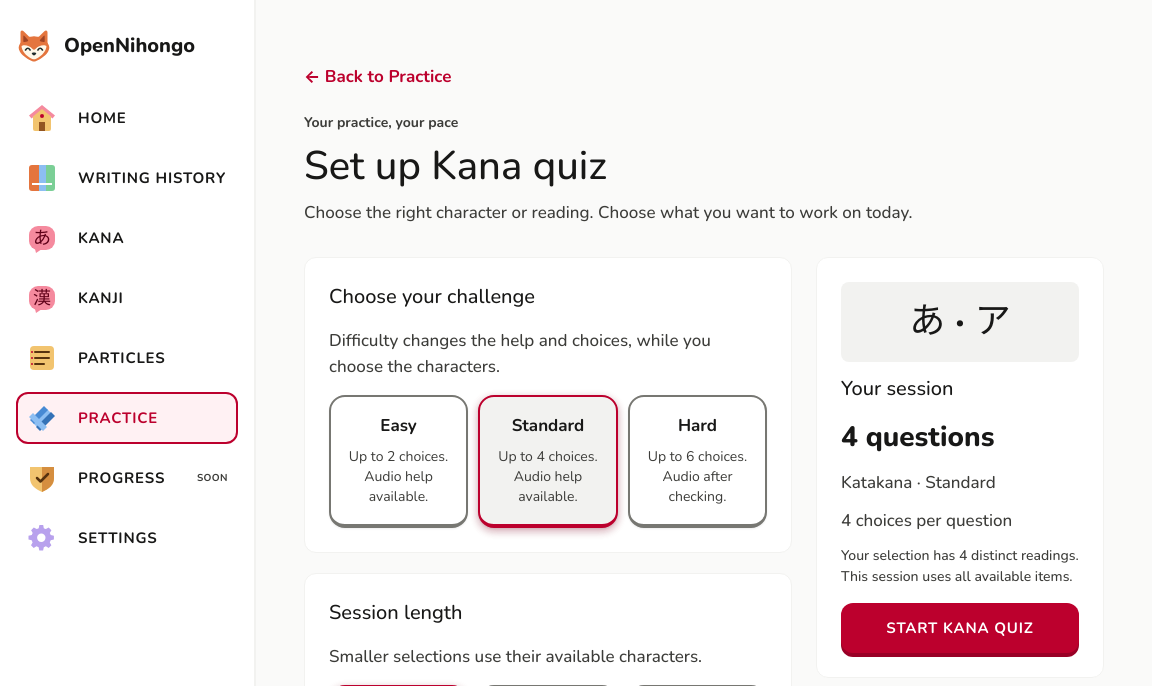
Test case: uses Enter and Space to choose focused options before checking them
This screenshot has width=1152, height=686.
Check: the heading "Set up Kana quiz" is shown, box [304, 139, 607, 193]
Click the button "Start Kana quiz" at (960, 628), box [841, 603, 1079, 653]
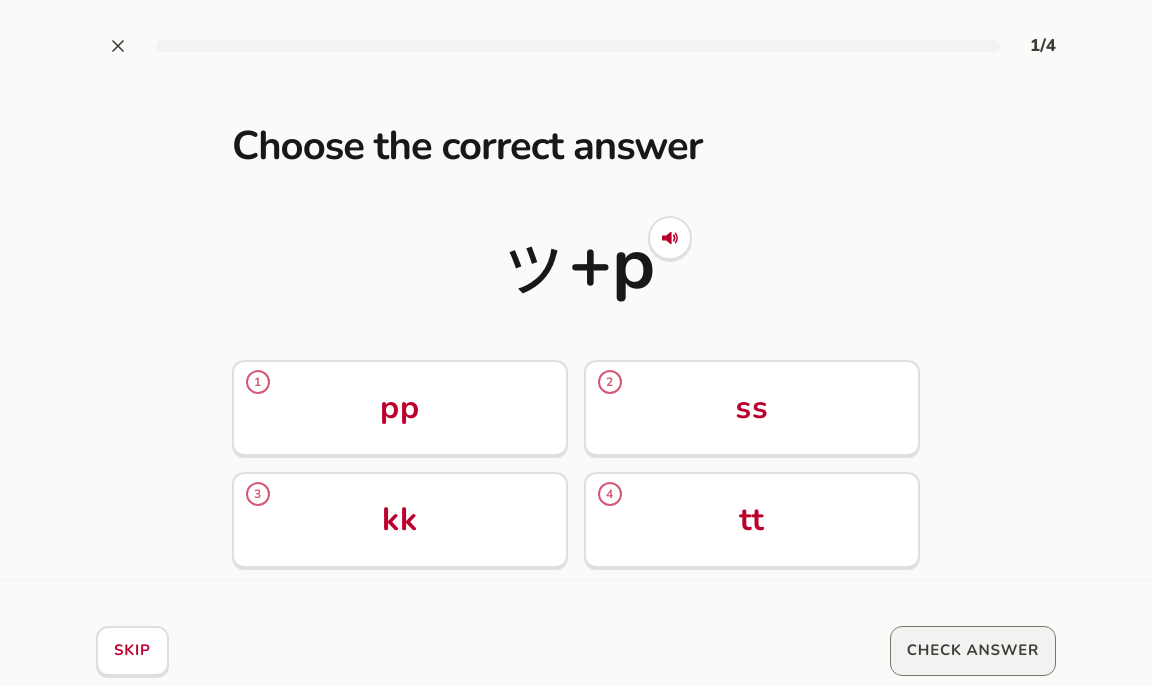
Check: the heading "Choose the correct answer" is shown, box [232, 119, 702, 173]
Type keys " "
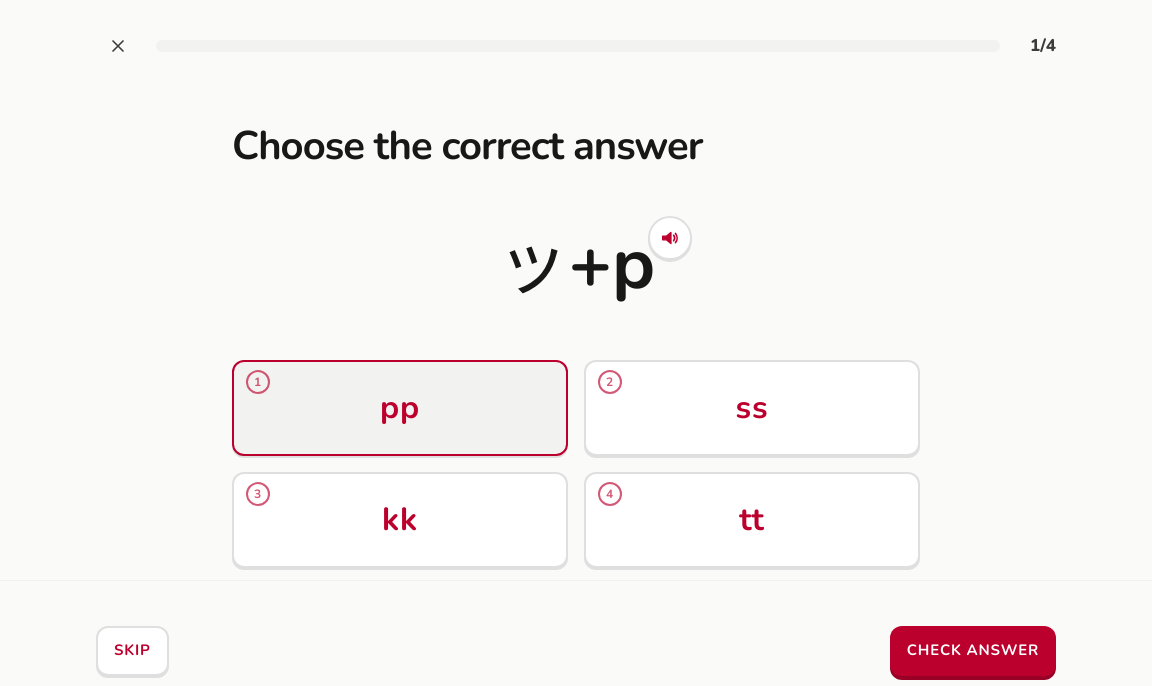
Check: the button "1 pp" is pressed, box [232, 360, 568, 456]
Press Arrowright Enter
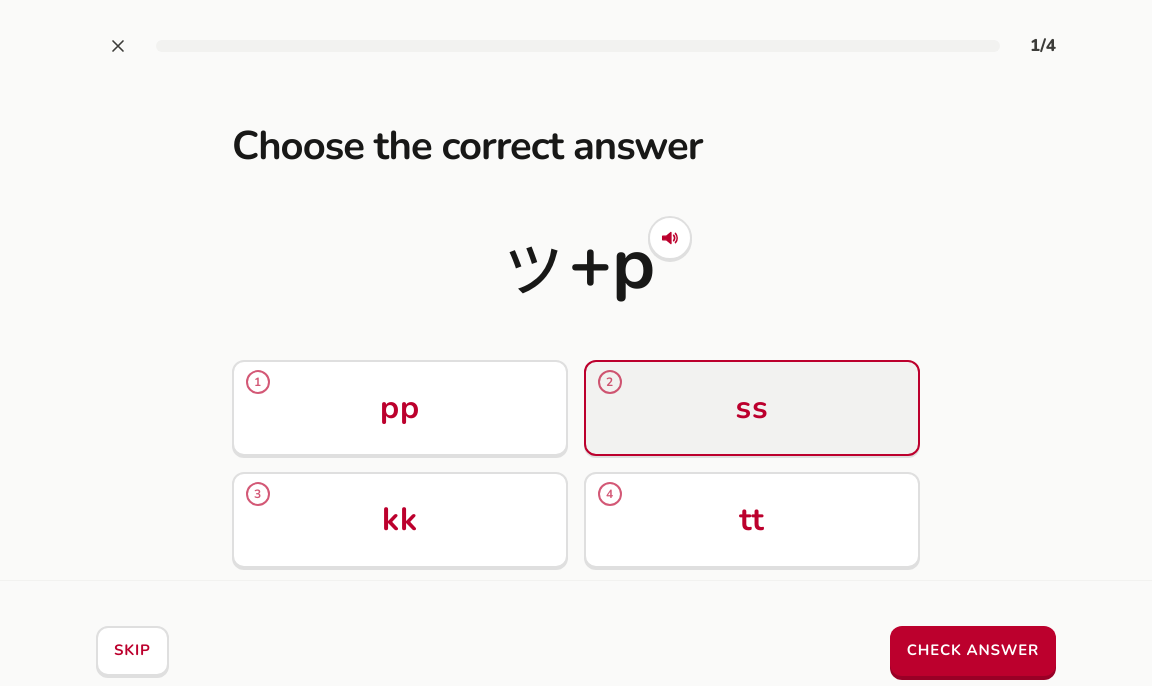
Check: the button "2 ss" is pressed, box [584, 360, 920, 456]
Press Enter
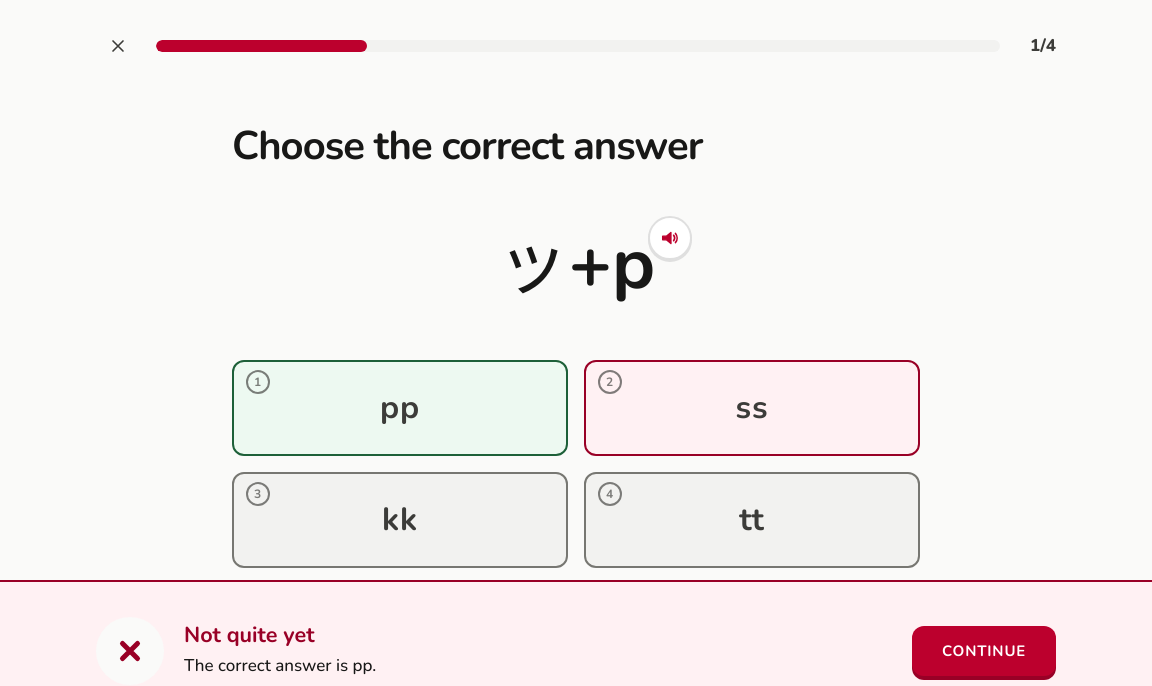
Check: the message "Not quite yet The correct answer is pp." is shown, box [184, 620, 376, 677]
